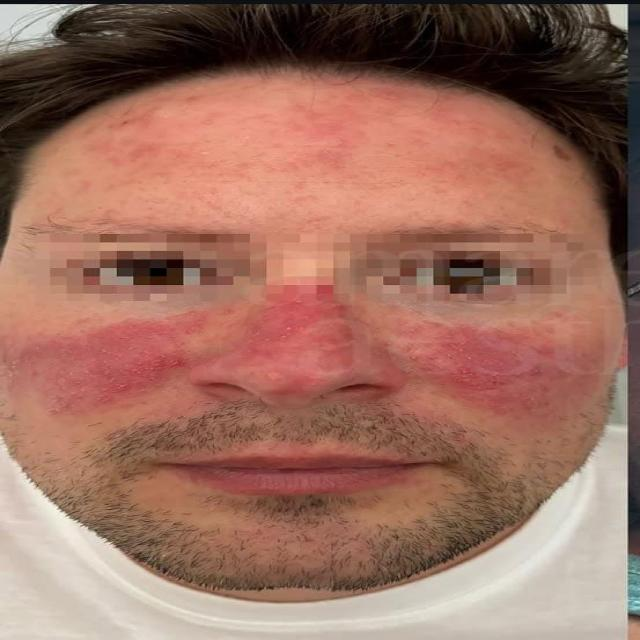Rosacea: (9, 306, 598, 417)
